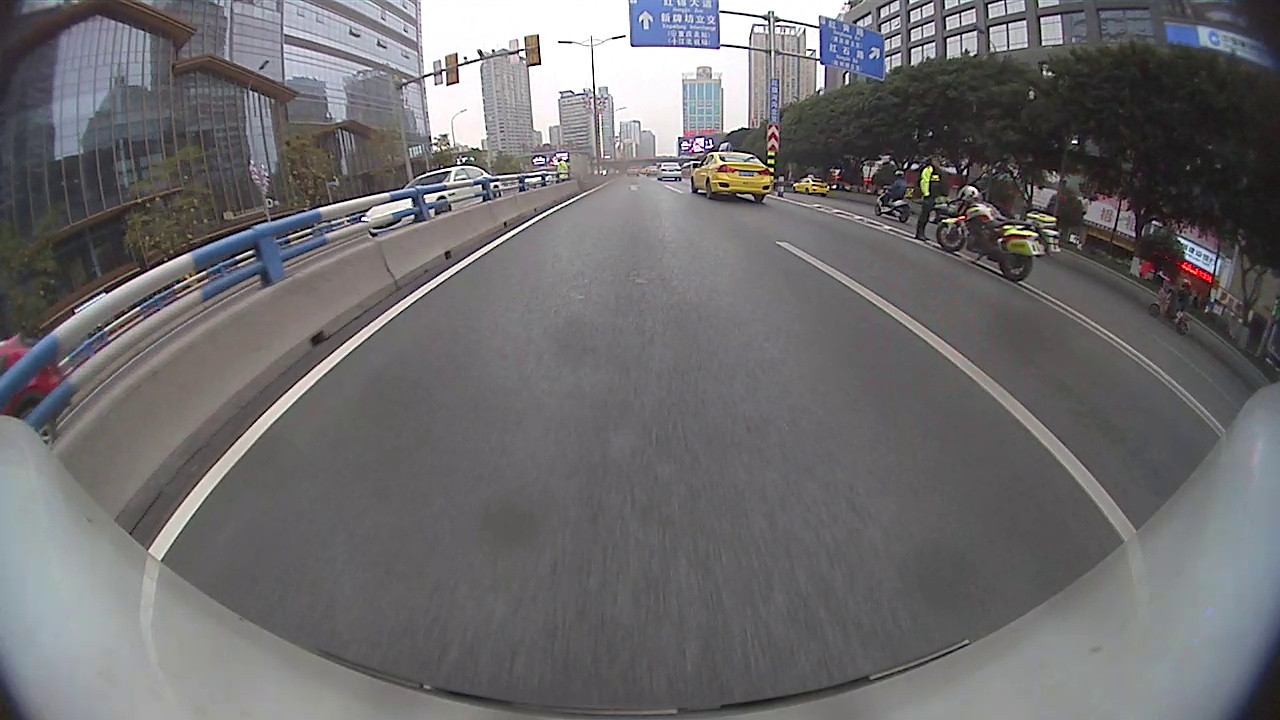car: (359, 163, 505, 238), (688, 140, 775, 205), (789, 172, 832, 198), (654, 160, 685, 183)
front: (432, 195, 453, 215)
person: (920, 154, 944, 241)
rear: (15, 399, 56, 452), (704, 178, 716, 202)
rider: (935, 183, 1064, 283), (1147, 277, 1197, 337), (873, 169, 914, 224)
